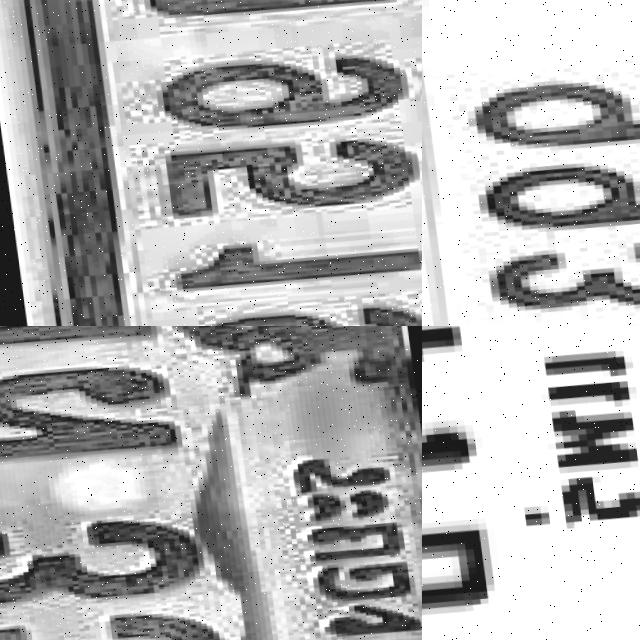license-plate: (0, 0, 422, 326), (0, 326, 422, 640), (422, 0, 640, 326), (422, 326, 640, 640)
